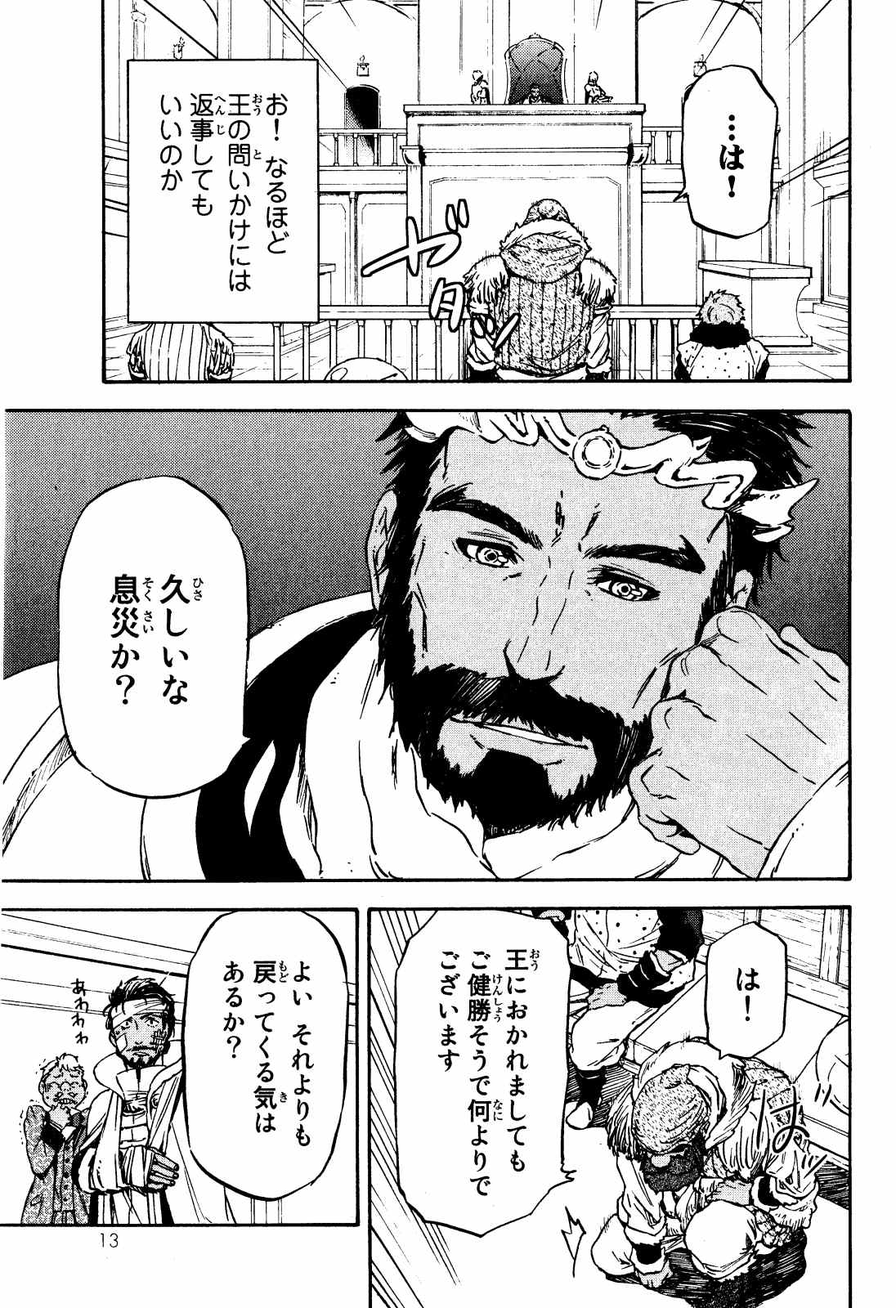bubbles: (52, 474, 256, 802), (392, 911, 578, 1241), (123, 55, 324, 327), (179, 909, 353, 1206), (669, 60, 784, 241), (701, 919, 791, 1069)
